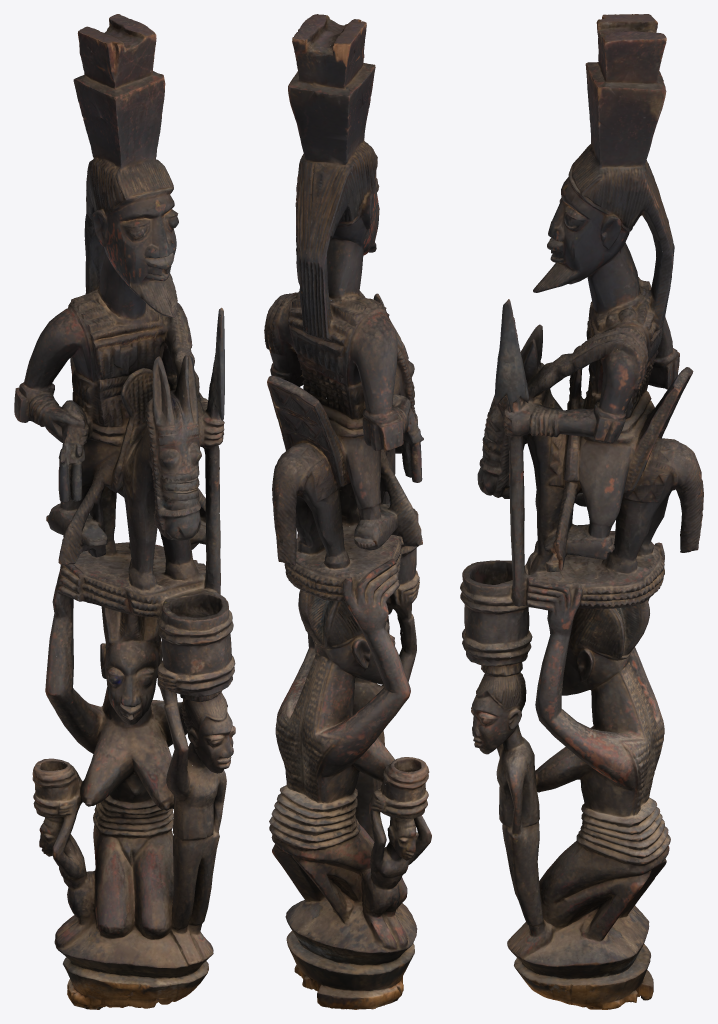
Rendered from opo_veranda_post_olowe.glb.
3 renders of one model, left to right at view 1: azimuth 30°, elevation 25°; view 2: azimuth 150°, elevation 25°; view 3: azimuth 270°, elevation 25°, orthographic.
Visible parts, largest first — view 1: VerandaPost_Edit_n3d; view 2: VerandaPost_Edit_n3d; view 3: VerandaPost_Edit_n3d.
Part boxes in pixels (<box>): VerandaPost_Edit_n3d: <box>14,14,235,1009</box>; VerandaPost_Edit_n3d: <box>264,14,431,1009</box>; VerandaPost_Edit_n3d: <box>460,14,703,1009</box>.
Bounding box in the file's own units: 0.3049 × 1.81 × 0.4109.
Materials: 1 (1 with a texture image).
